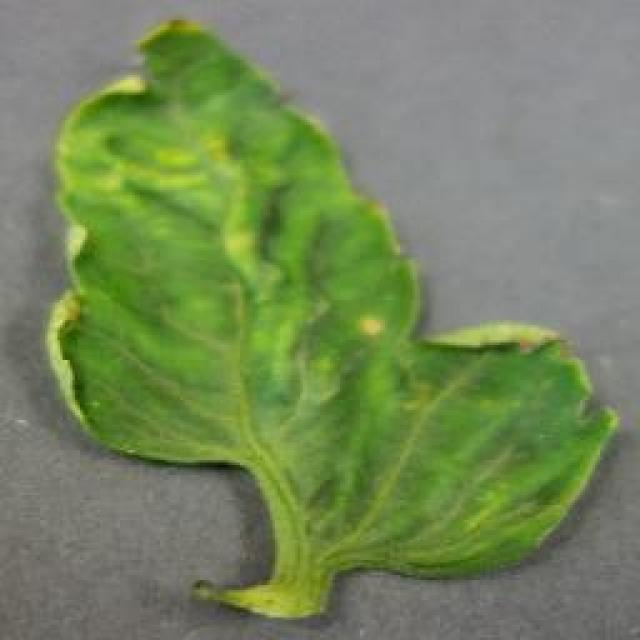Tomato yellow virus leaf: (48, 8, 620, 585)
